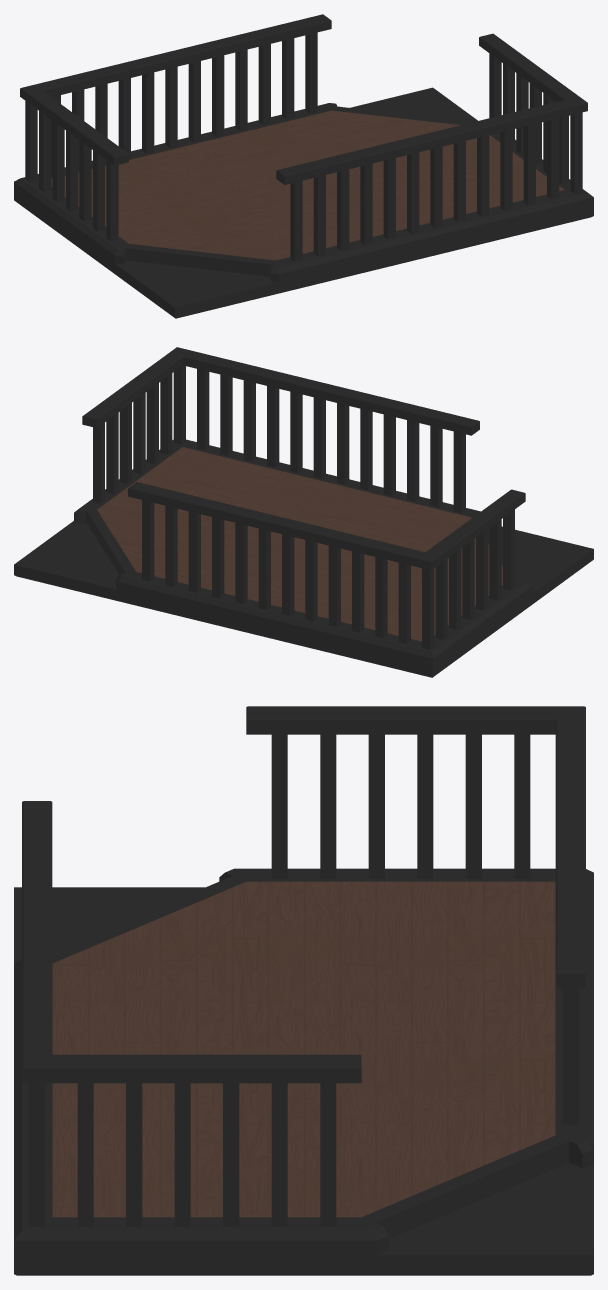
Rendered from Slides_Tower_Elevator.gltf.
The picture shows the model from 3 angles, top to bottom: view 1: azimuth 30°, elevation 25°; view 2: azimuth 150°, elevation 25°; view 3: azimuth 270°, elevation 25°; orthographic projection. The views are drawn at different scales.
Visible parts, largest first — view 1: Elevator; view 2: Elevator; view 3: Elevator.
Boxes of the visible parts, x1,y1,x2,y2 form: Elevator: (14,14,593,318); Elevator: (14,347,593,677); Elevator: (14,706,593,1275).
Size of what is drawn, in the model's own units: 17.96 by 4.7 by 11.96.
2 materials, 1 textured.
